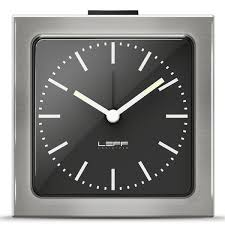alarm_clock: (9, 7, 216, 218)
